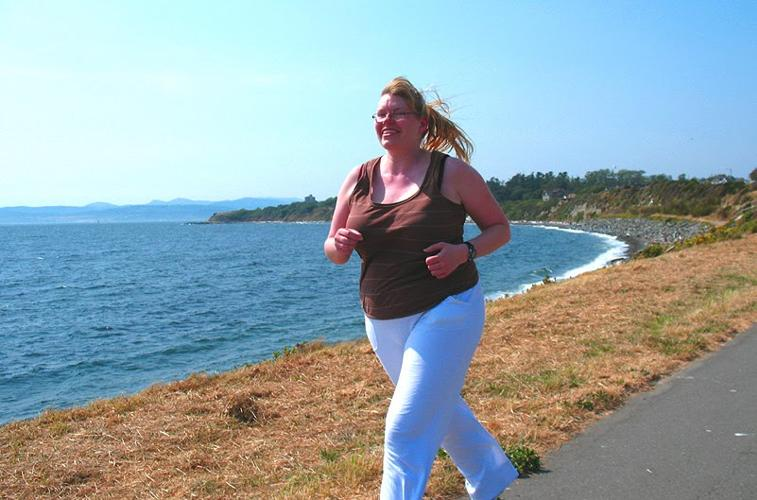person: (322, 78, 521, 500)
